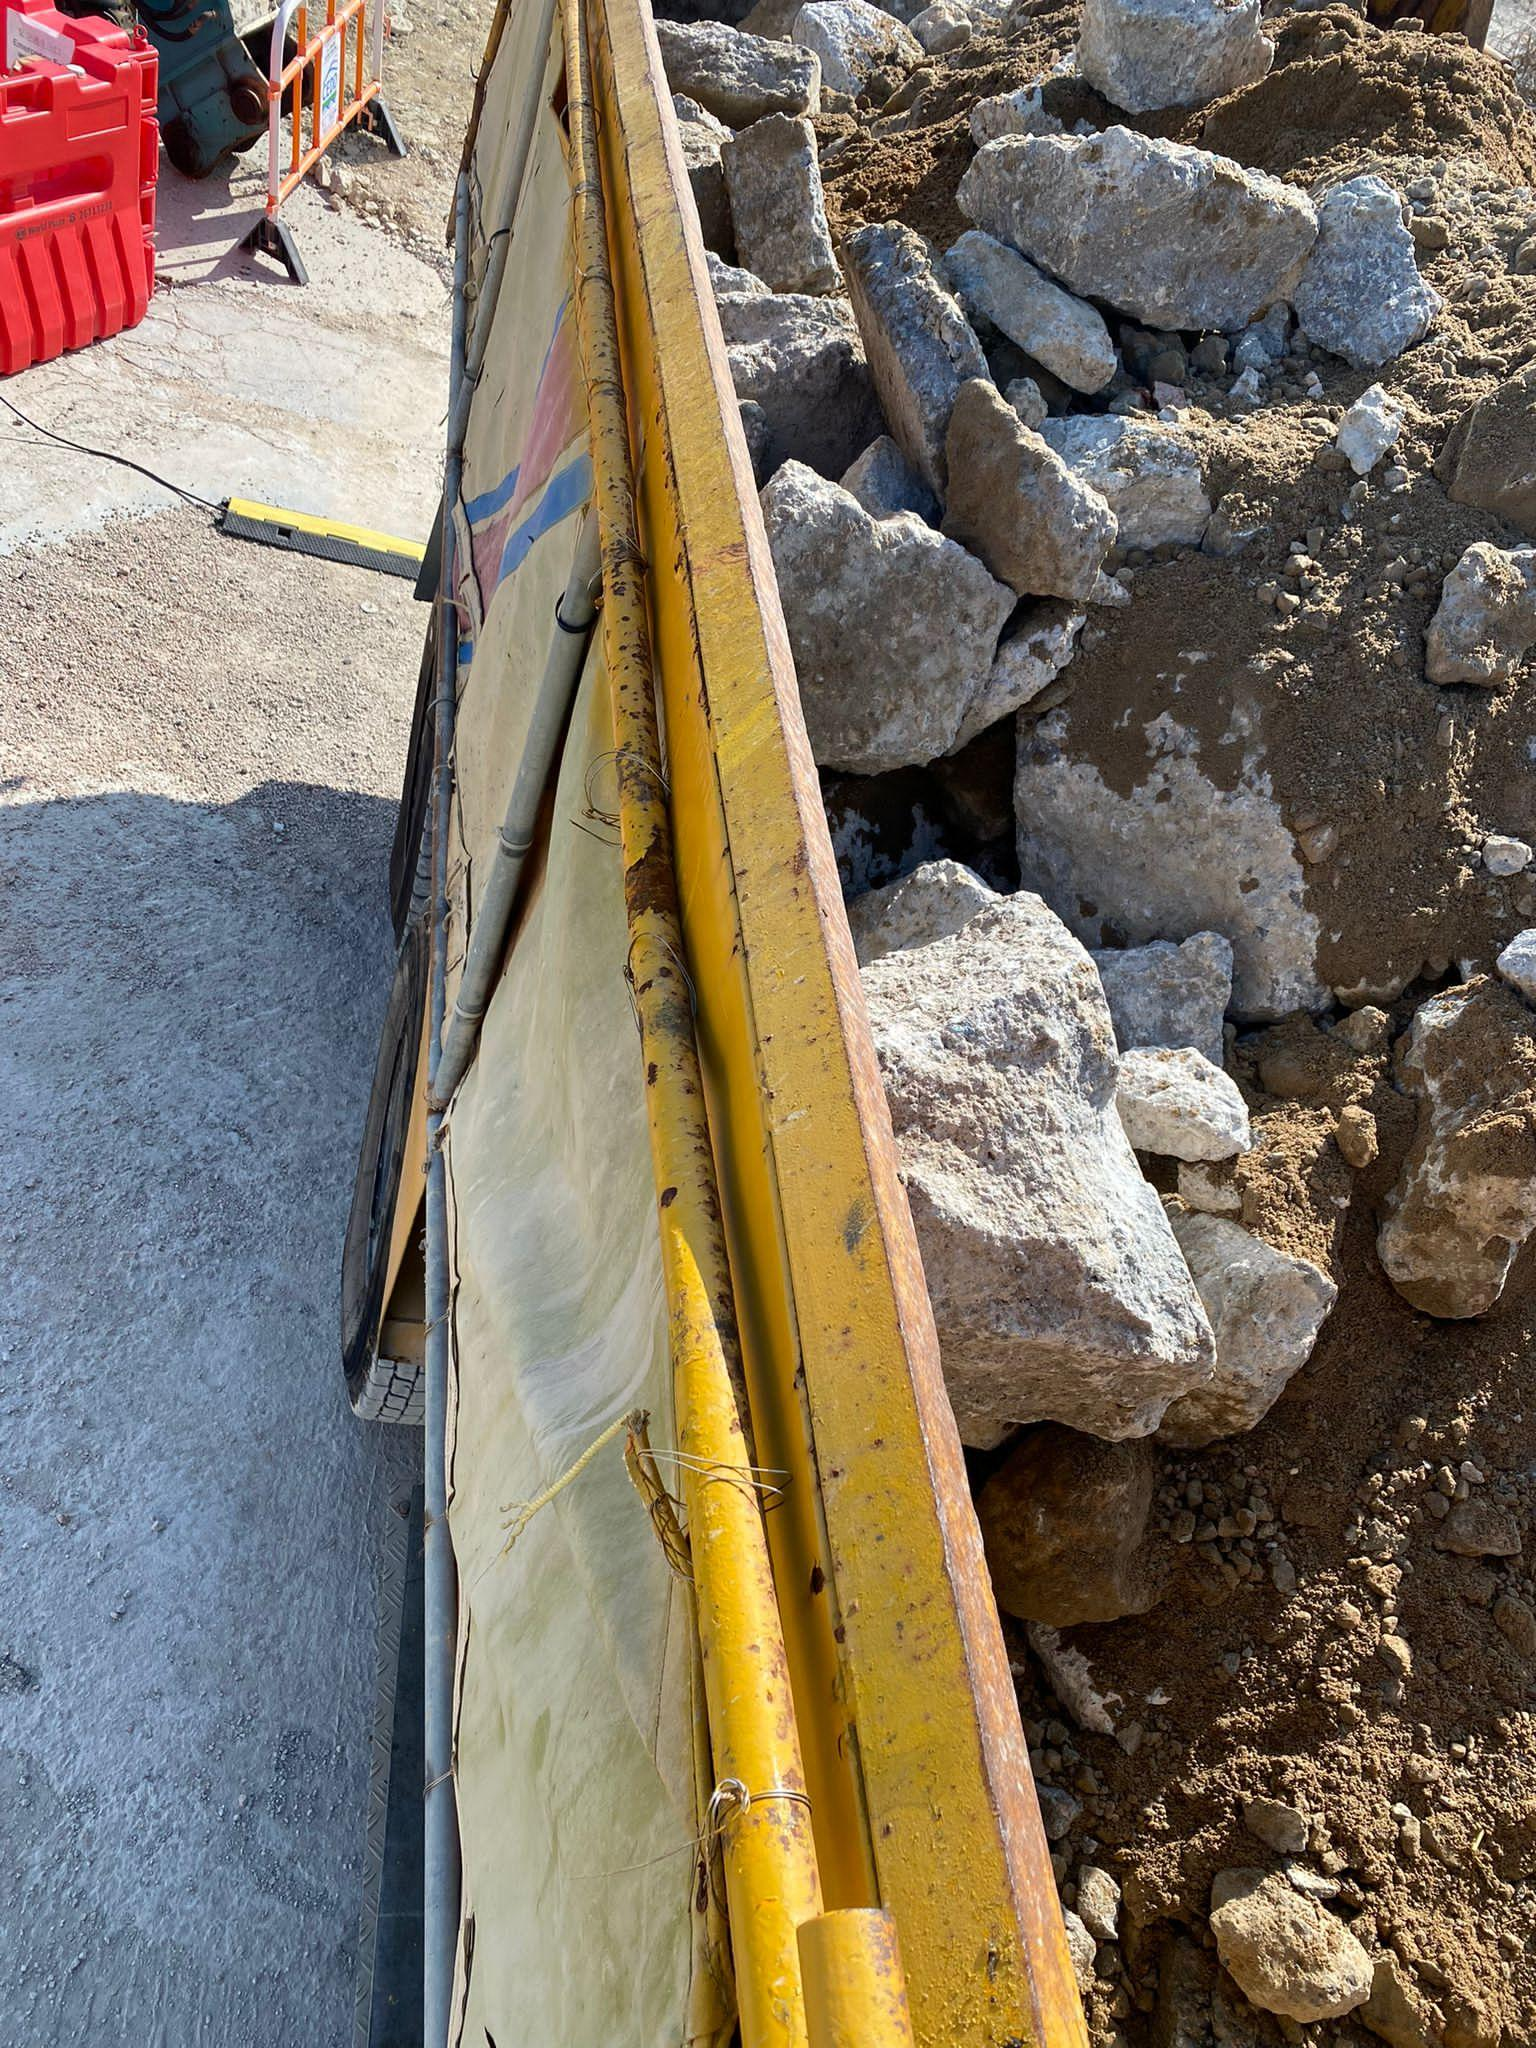stone: (649, 0, 1534, 2045), (842, 856, 1221, 1450), (757, 455, 1018, 776), (954, 121, 1318, 334), (1371, 972, 1534, 1321), (1150, 1201, 1338, 1448), (939, 376, 1121, 605), (973, 1424, 1171, 1625), (939, 226, 1117, 393), (1291, 173, 1441, 369), (1205, 1864, 1375, 2022), (1075, 0, 1273, 116), (721, 110, 841, 293), (653, 16, 821, 127), (1421, 537, 1533, 689), (1113, 1042, 1252, 1163)
